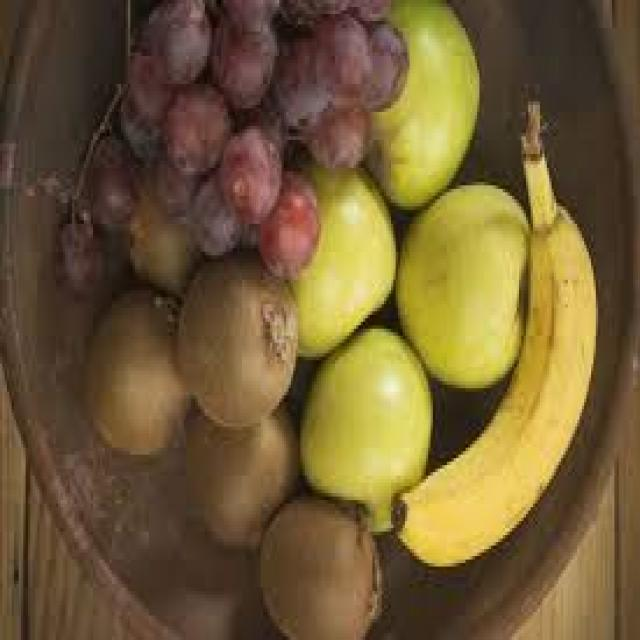organic waste: (386, 94, 594, 563), (298, 318, 428, 532), (394, 178, 528, 385), (363, 0, 477, 206), (279, 157, 396, 357), (179, 248, 296, 430), (84, 280, 195, 451), (184, 395, 298, 549), (258, 493, 377, 637), (128, 150, 195, 287), (258, 161, 319, 276), (216, 122, 282, 220), (160, 84, 226, 175), (272, 24, 328, 130), (210, 10, 272, 105), (116, 49, 172, 150), (140, 3, 207, 84), (312, 10, 365, 105), (186, 161, 238, 255), (81, 133, 130, 227), (363, 14, 407, 108), (300, 105, 370, 164), (230, 91, 291, 154), (54, 217, 100, 290), (144, 147, 193, 206), (279, 0, 342, 28), (205, 0, 277, 17), (342, 0, 391, 21), (240, 220, 253, 248)
